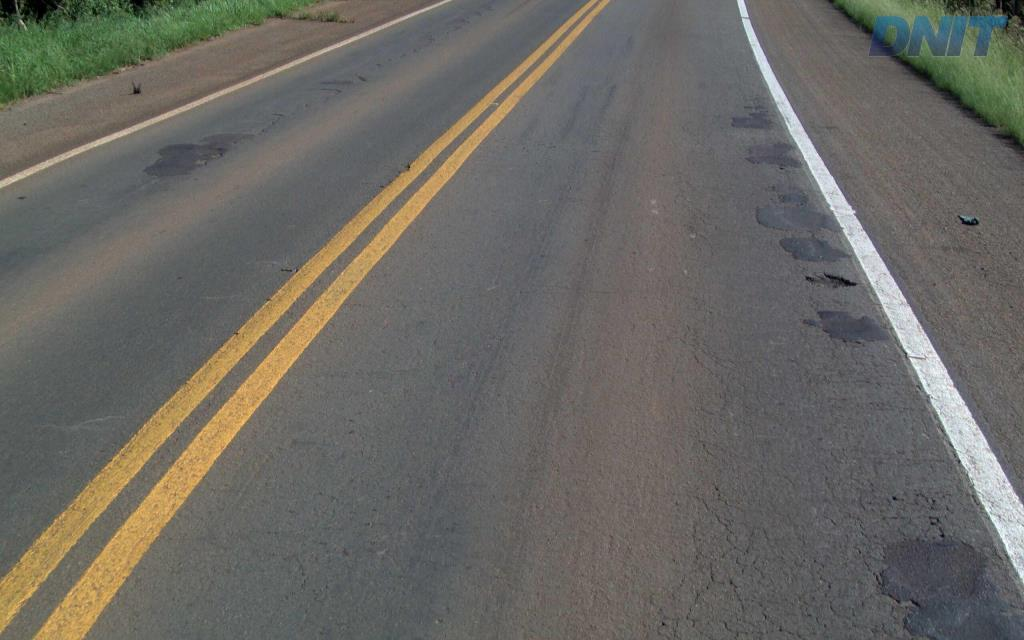pothole: (807, 269, 855, 287)
